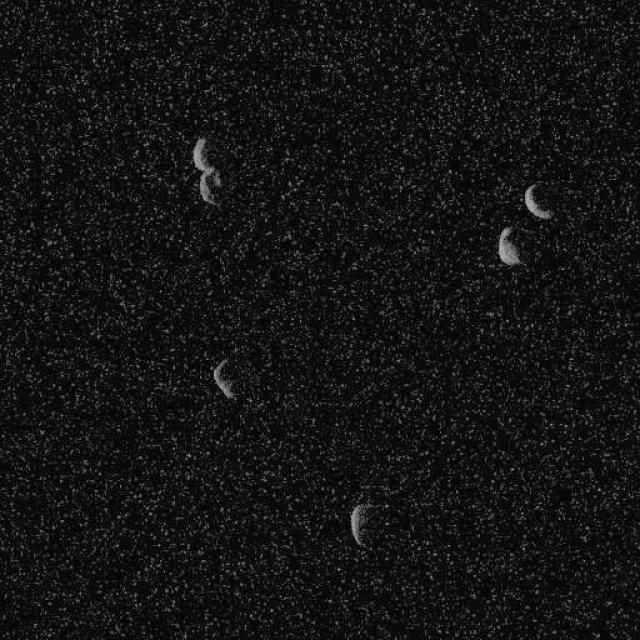D2: (190, 135, 222, 206), (212, 356, 238, 400), (522, 182, 552, 220), (496, 225, 522, 266), (349, 502, 370, 548)
